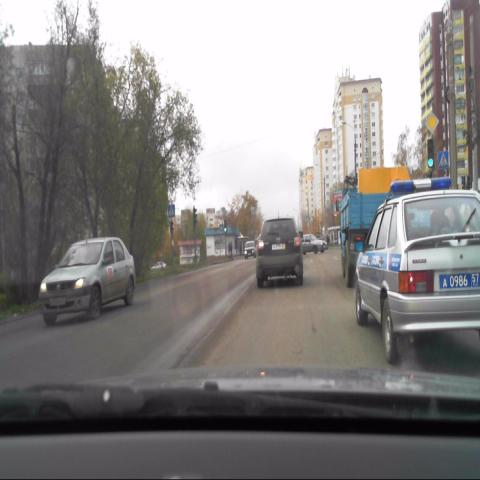2_1: (424, 112, 438, 137)
5_19_1: (438, 150, 449, 168), (167, 202, 177, 220)
